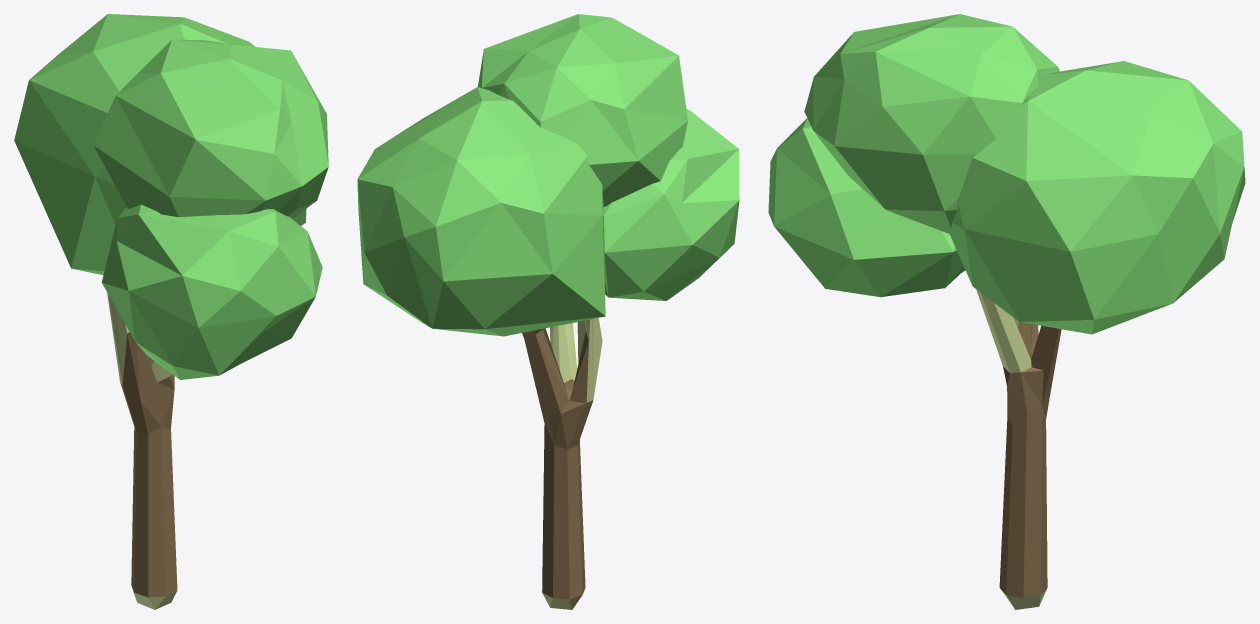
Rendered from VRTreebawah2.fbx.
The picture shows the model from 3 angles, left to right: view 1: azimuth 30°, elevation 25°; view 2: azimuth 150°, elevation 25°; view 3: azimuth 270°, elevation 25°; orthographic projection. The views are drawn at different scales.
Parts seen in each view (by area): view 1: Treebawah2; view 2: Treebawah2; view 3: Treebawah2.
Boxes of the visible parts, x1=… form: Treebawah2: x1=14, y1=14, x2=328, y2=609; Treebawah2: x1=357, y1=14, x2=739, y2=609; Treebawah2: x1=768, y1=14, x2=1245, y2=609.
Bounding box in the file's own units: 317 × 610 × 443.
